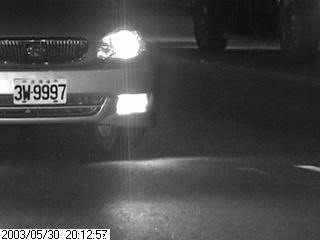plate: (11, 76, 67, 107)
